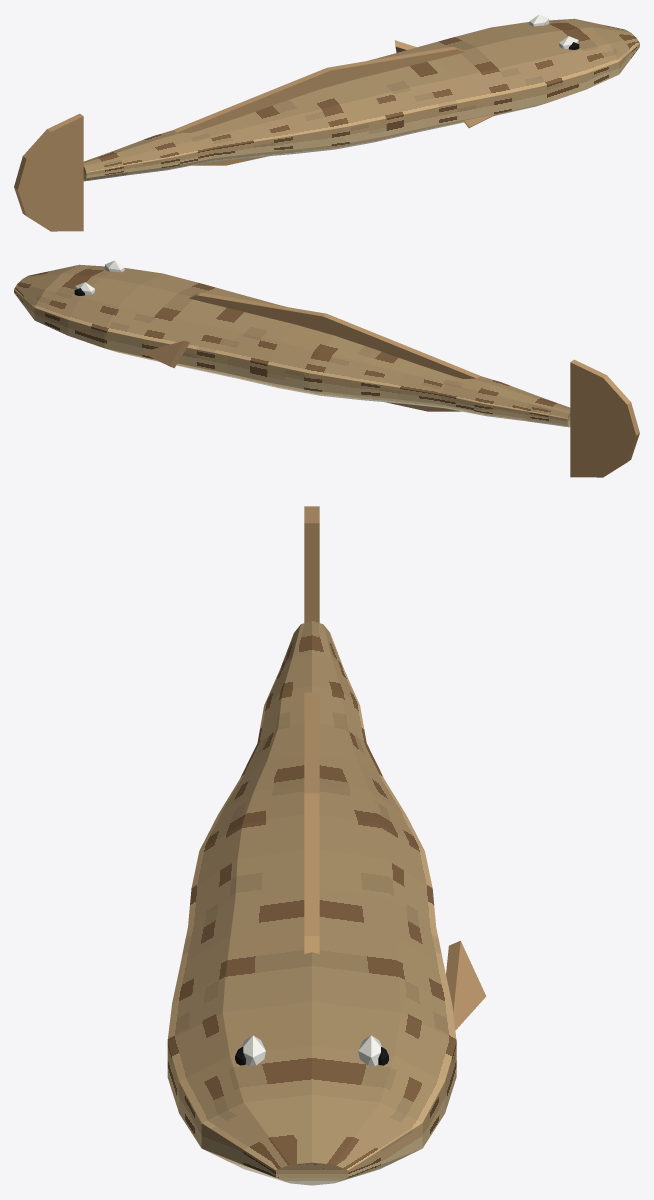
The model's file is sand_flathead.glb.
3 views of the same model, one above another, from view 1: azimuth 30°, elevation 25°; view 2: azimuth 150°, elevation 25°; view 3: azimuth 270°, elevation 25° (orthographic). The views are drawn at different scales.
Visible parts, largest first — view 1: fish_sand_flathead; view 2: fish_sand_flathead; view 3: fish_sand_flathead.
Boxes of the visible parts, x1=… form: fish_sand_flathead: x1=14, y1=14, x2=639, y2=231; fish_sand_flathead: x1=14, y1=260, x2=639, y2=477; fish_sand_flathead: x1=167, y1=506, x2=486, y2=1185.
Size of the model in its own units: 1.12 by 0.2 by 0.2515.
Materials: 4 (1 with a texture image).
